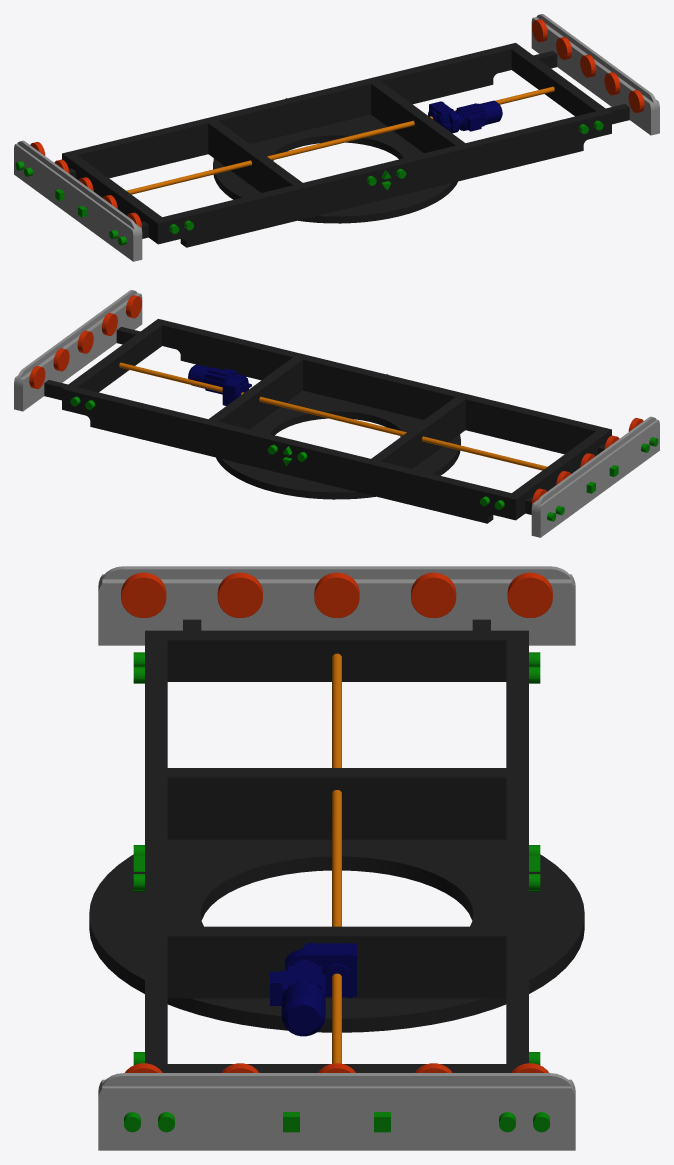
Rendered from TT-ONCARR.obj.
The picture shows the model from 3 angles, top to bottom: view 1: azimuth 30°, elevation 25°; view 2: azimuth 150°, elevation 25°; view 3: azimuth 270°, elevation 25°; orthographic projection. The views are drawn at different scales.
Parts seen in each view (by area): view 1: P072823.001; view 2: P072823.001; view 3: P072823.001.
Part boxes in pixels (box(x1,y1,x2,y2)): P072823.001: box(14, 14, 659, 261); P072823.001: box(14, 290, 659, 537); P072823.001: box(89, 566, 584, 1150).
Size of the model in its own units: 5450 by 523 by 2180.
